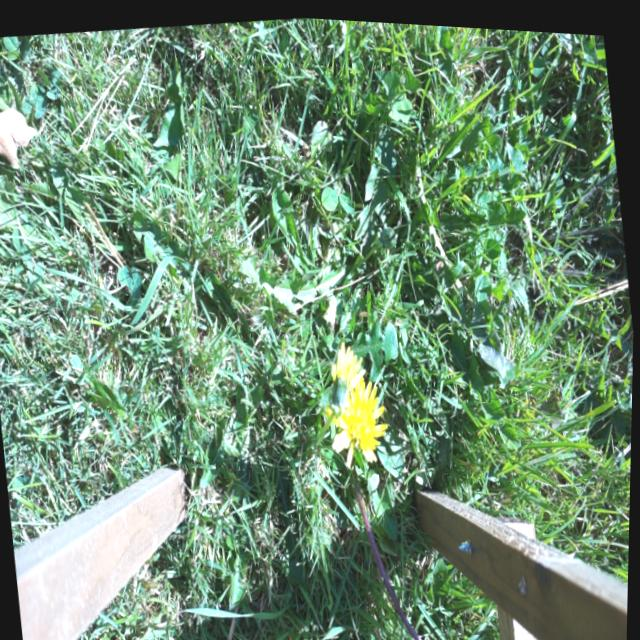base: (311, 423, 334, 458), (347, 451, 367, 487)
